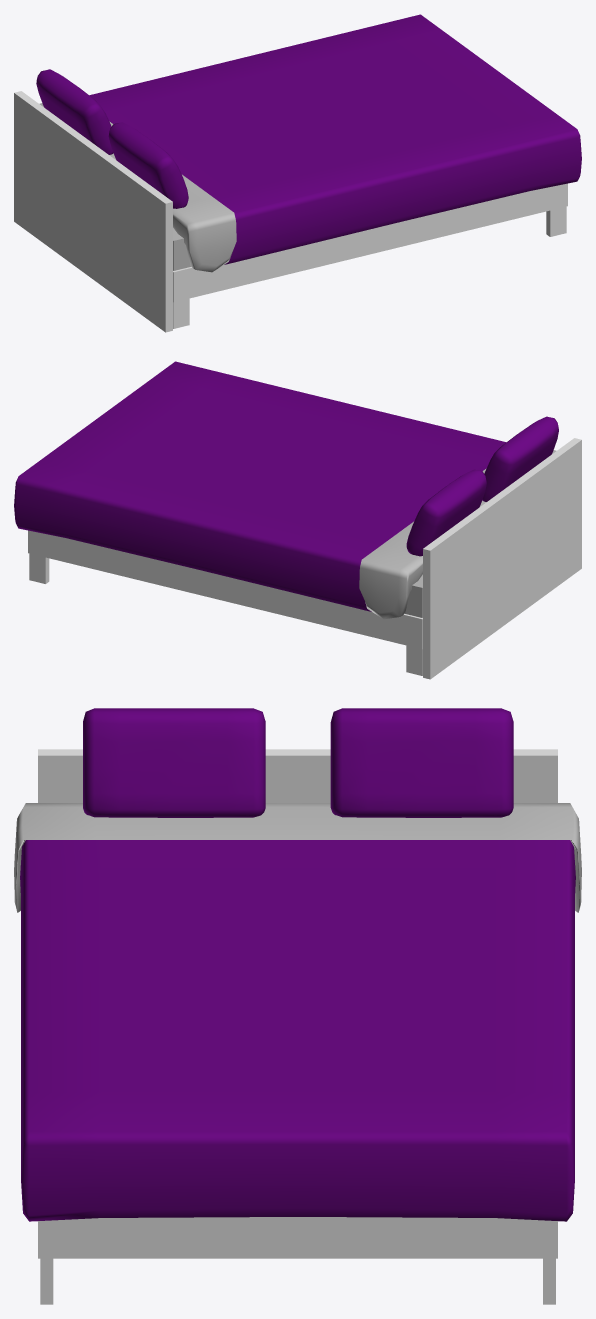
The model's file is QueenBed.fbx.
3 renders of one model, top to bottom at view 1: azimuth 30°, elevation 25°; view 2: azimuth 150°, elevation 25°; view 3: azimuth 270°, elevation 25°, orthographic. The views are drawn at different scales.
Visible parts, largest first — view 1: polySurface4, HeadRest, Frame, polySurface3, PillowLeft, PillowRight, Leg2, Mattress, Leg3; view 2: polySurface4, HeadRest, Frame, polySurface3, PillowRight, PillowLeft, Leg1, Mattress, Leg4; view 3: polySurface4, Frame, PillowRight, PillowLeft, polySurface3, HeadRest.
Boxes of the visible parts, box(x1,y1,x2,y2) form: polySurface4: box(89, 14, 581, 264); HeadRest: box(14, 91, 172, 332); Frame: box(173, 183, 567, 302); polySurface3: box(39, 103, 236, 272); PillowLeft: box(108, 122, 188, 208); PillowRight: box(36, 69, 113, 154); Leg2: box(546, 206, 566, 236); Mattress: box(173, 227, 190, 270); Leg3: box(173, 298, 189, 328); polySurface4: box(14, 361, 506, 611); HeadRest: box(423, 438, 581, 679); Frame: box(28, 530, 422, 649); polySurface3: box(359, 450, 556, 619); PillowRight: box(406, 469, 486, 556); PillowLeft: box(482, 416, 558, 501); Leg1: box(29, 553, 49, 583); Mattress: box(405, 574, 422, 617); Leg4: box(406, 645, 422, 675); polySurface4: box(20, 840, 575, 1221); Frame: box(38, 1217, 557, 1258); PillowRight: box(330, 708, 513, 817); PillowLeft: box(83, 708, 265, 817); polySurface3: box(14, 803, 581, 912); HeadRest: box(38, 749, 557, 802).
Size of the model in its own units: 4.3 by 1.6 by 2.99.
